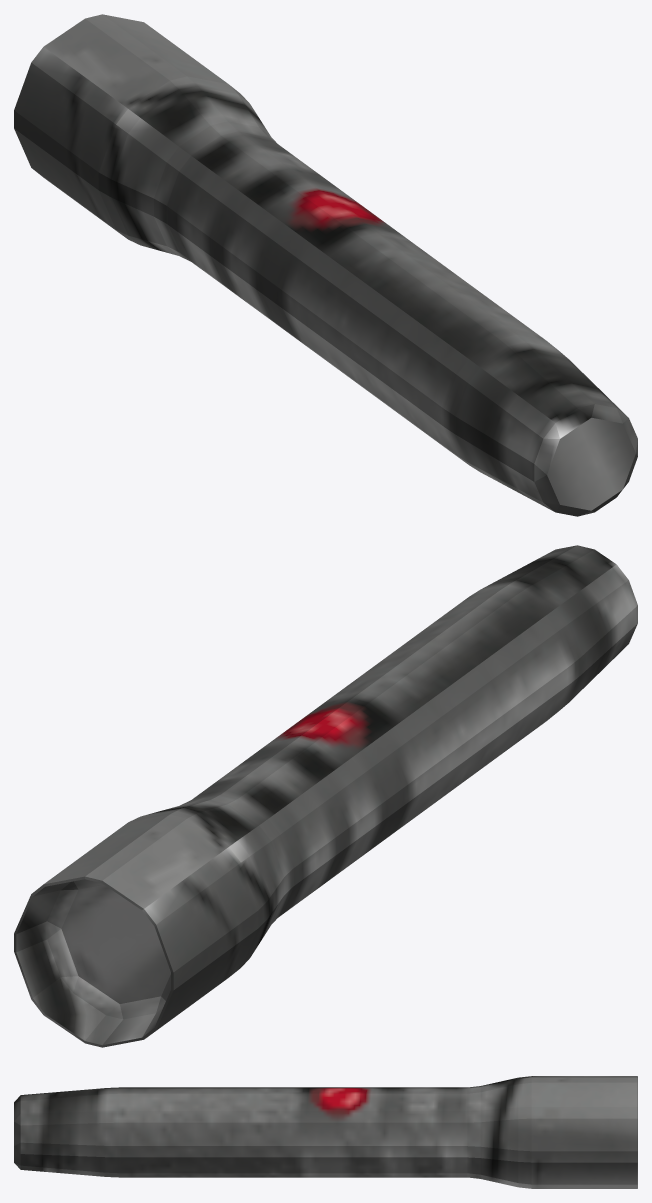
Rendered from Light.fbx.
3 renders of one model, top to bottom at view 1: azimuth 30°, elevation 25°; view 2: azimuth 150°, elevation 25°; view 3: azimuth 270°, elevation 25°, orthographic. The views are drawn at different scales.
Visible parts, largest first — view 1: Cylinder; view 2: Cylinder; view 3: Cylinder.
Boxes of the visible parts, bbox=[...] form: Cylinder: bbox=[14, 14, 637, 516]; Cylinder: bbox=[14, 545, 637, 1047]; Cylinder: bbox=[14, 1076, 637, 1188].
Size of the model in its own units: 9.57 by 9.57 by 51.76.
